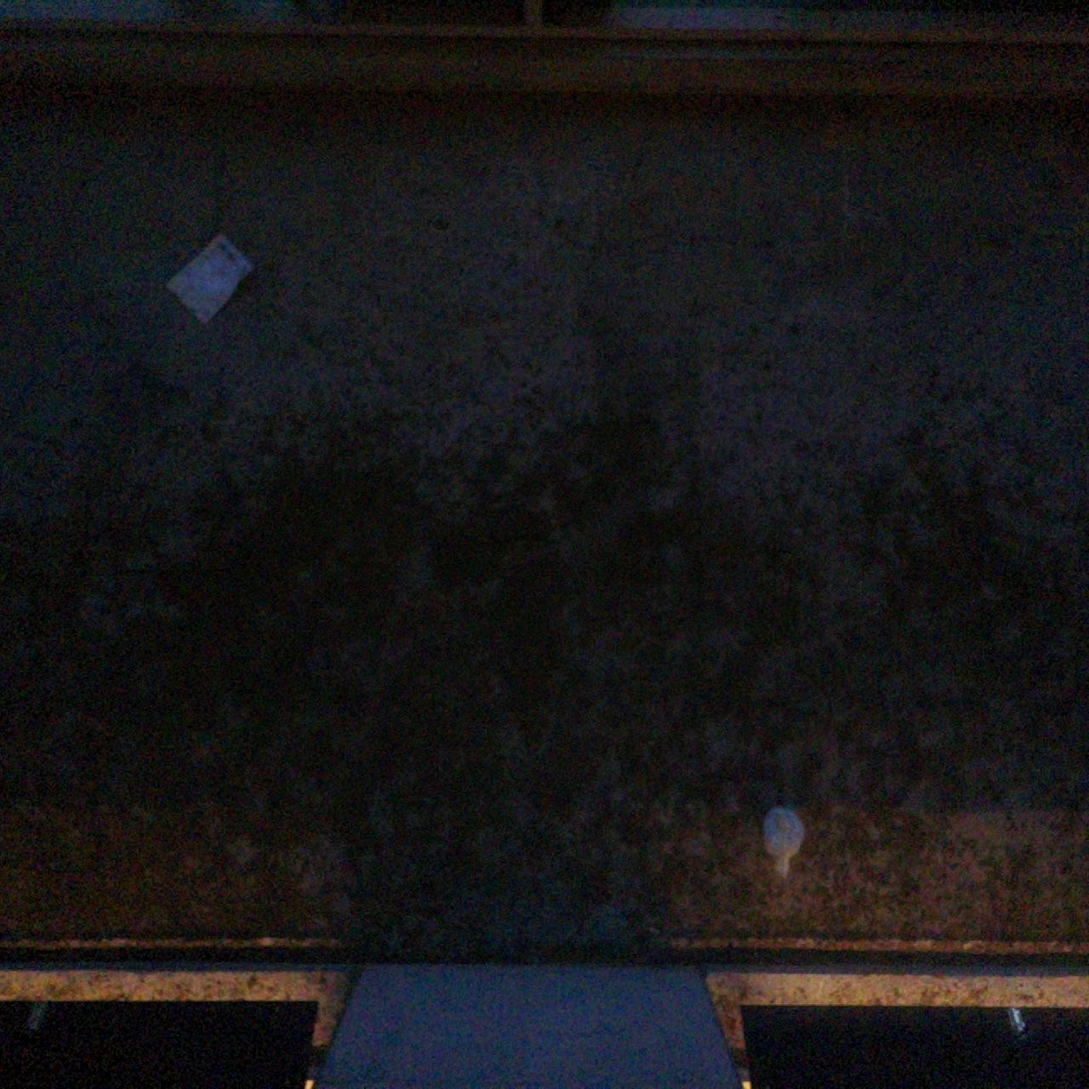chicken: (766, 810, 806, 883)
